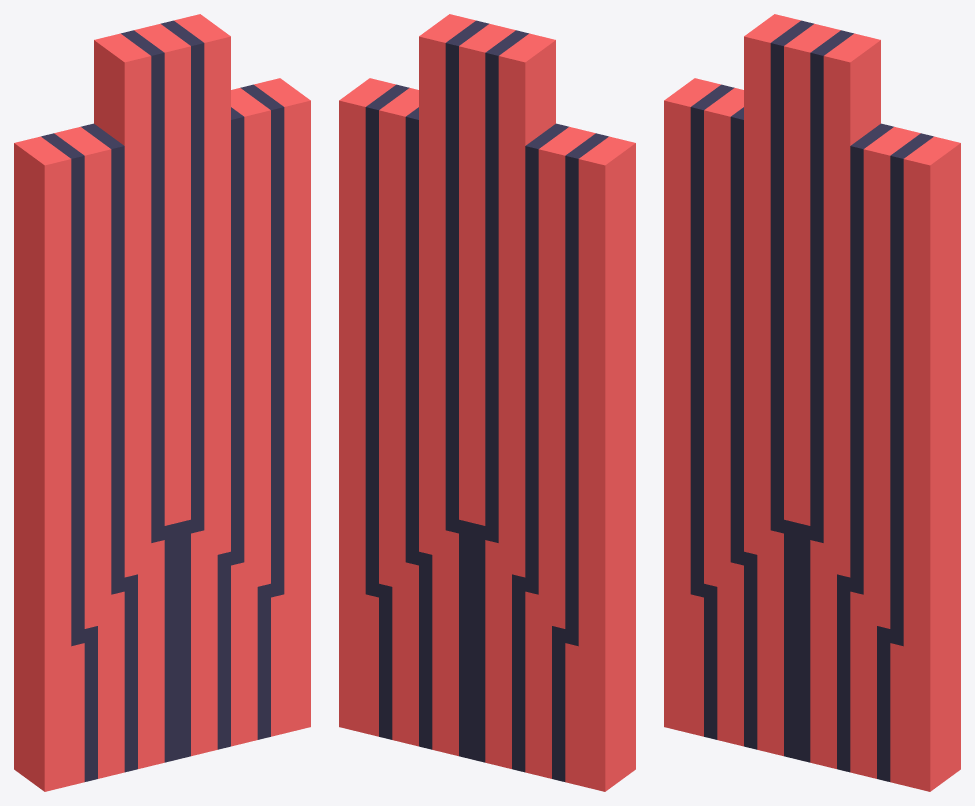
File: BS_Portal_4.fbx
3 views of the same model, side by side, from view 1: azimuth 30°, elevation 25°; view 2: azimuth 150°, elevation 25°; view 3: azimuth 330°, elevation 25° (orthographic).
Parts seen in each view (by area): view 1: BS_Portal_4; view 2: BS_Portal_4; view 3: BS_Portal_4.
Boxes of the visible parts, x1,y1,x2,y2 form: BS_Portal_4: (14,14,310,791); BS_Portal_4: (339,14,635,791); BS_Portal_4: (664,14,960,791).
Bounding box in the file's own units: 50 × 10 × 128.
